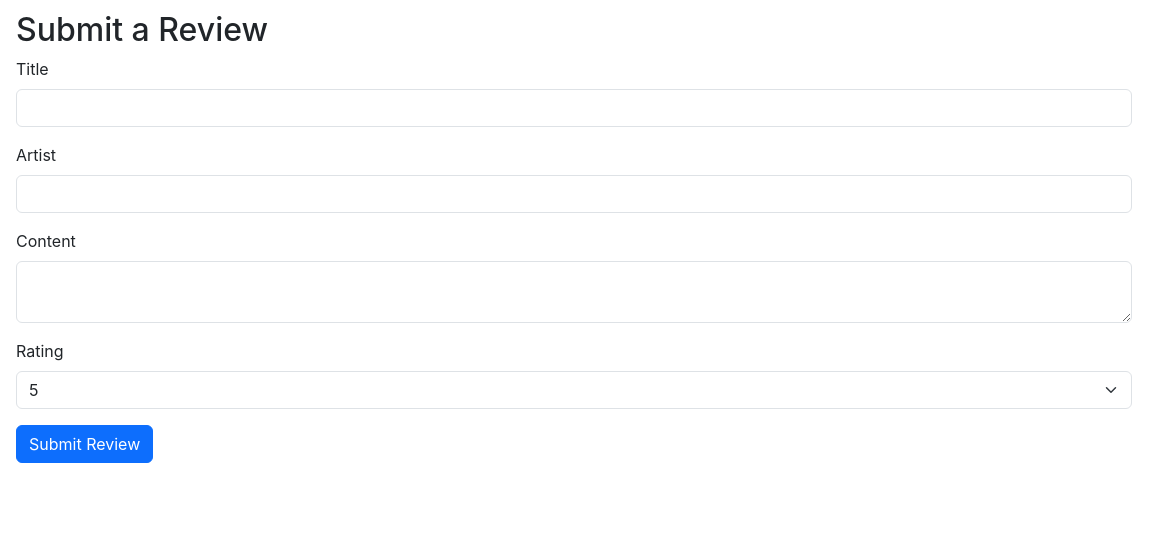
unit: submits review and resets form when authenticated
This screenshot has width=1149, height=554.
Type "Great album" into the field labelled "Title" at {"x": 574, "y": 108}, box [16,89,1132,127]
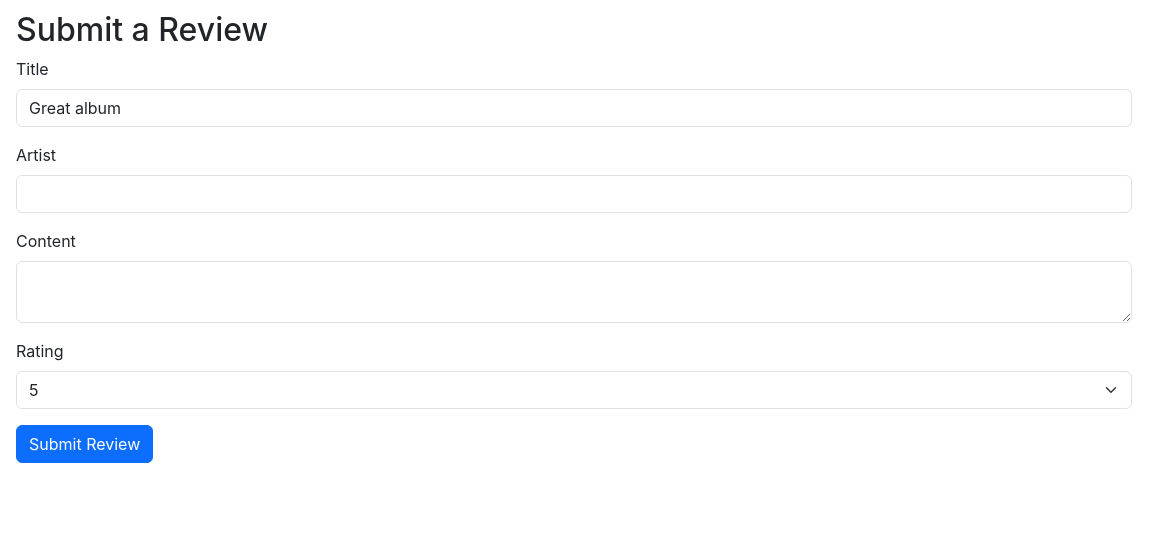
Type "Radiohead" into the field labelled "Artist" at {"x": 574, "y": 194}, box [16,175,1132,213]
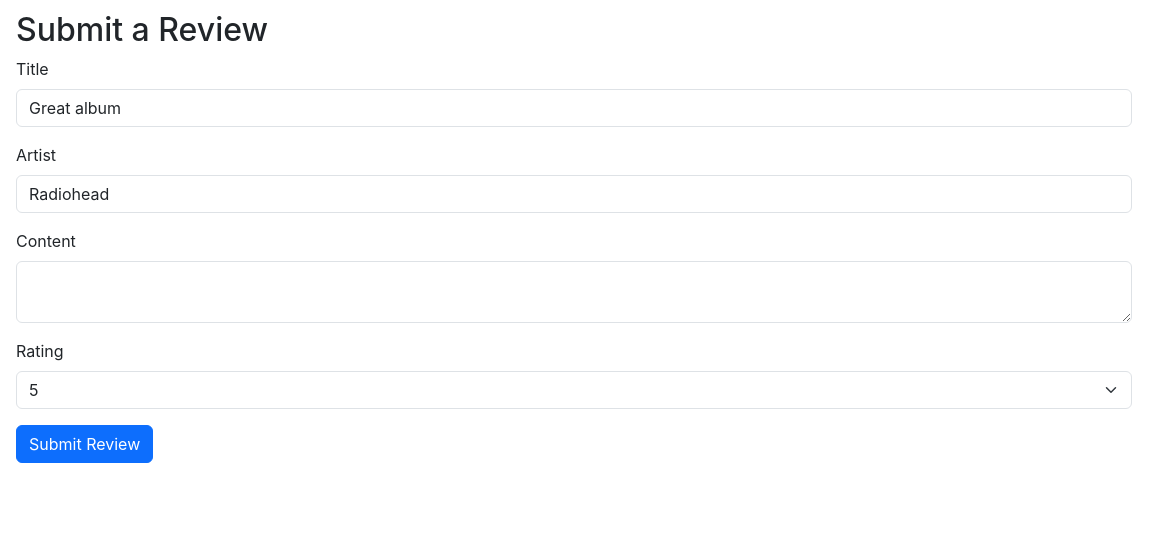
Type "Loved it" into the text box labelled "Content" at {"x": 574, "y": 292}, box [16,261,1132,323]
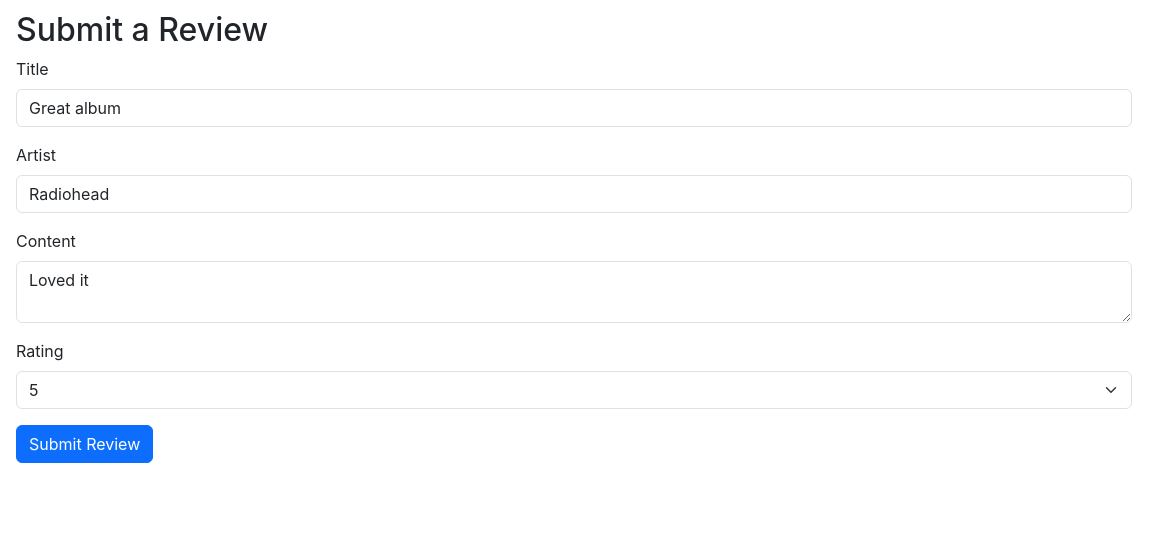
Select "4" in the dropdown labelled "Rating" at {"x": 574, "y": 390}, box [16,371,1132,409]
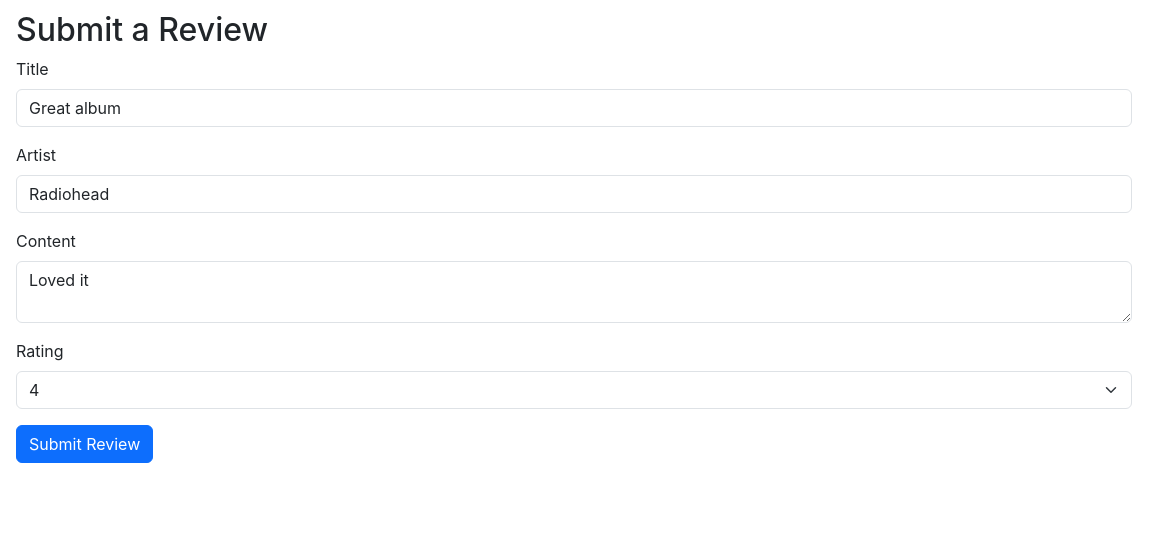
Click the button "Submit Review" at {"x": 85, "y": 444}, box [16,425,153,463]
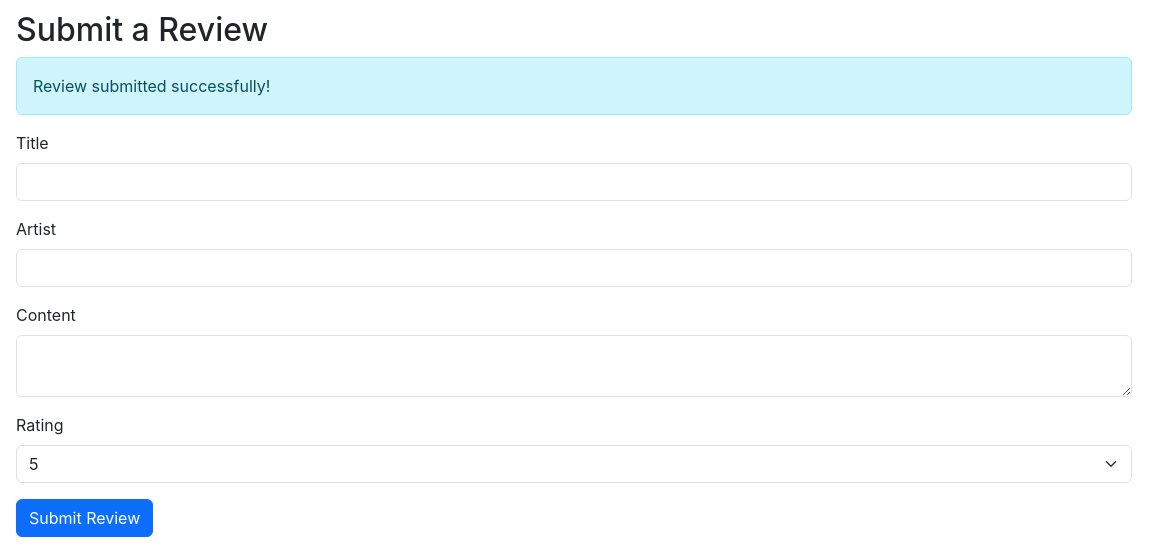
Check: the text "Review submitted successfully!" is shown, box [16,57,1132,115]
Check: the field labelled "Title" is empty, box [16,163,1132,201]
Check: the field labelled "Artist" is empty, box [16,249,1132,287]
